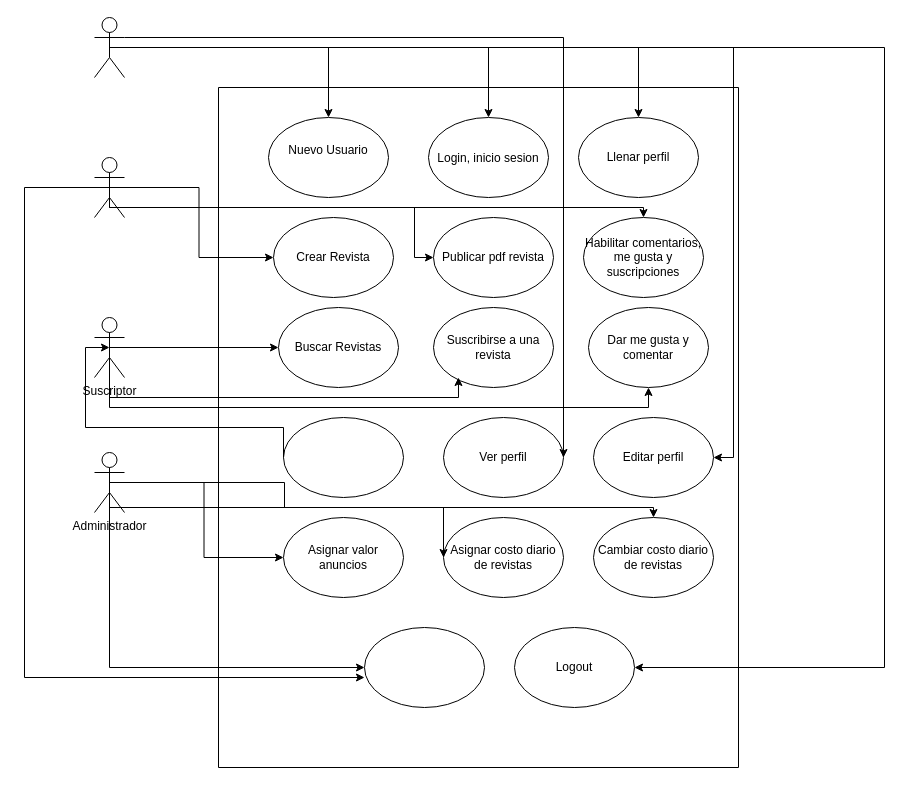
Some shapes in this 910 by 785 pixel diagram are drawn without their labels. The shapes that lost their labels are listed below. From the top down, each one's centre as x and y in pixels, then its label:
the point at 109,47: Usuario
the point at 109,187: Editor
the point at 343,457: Descargar capitulo PDF
the point at 424,667: Ver reportes
